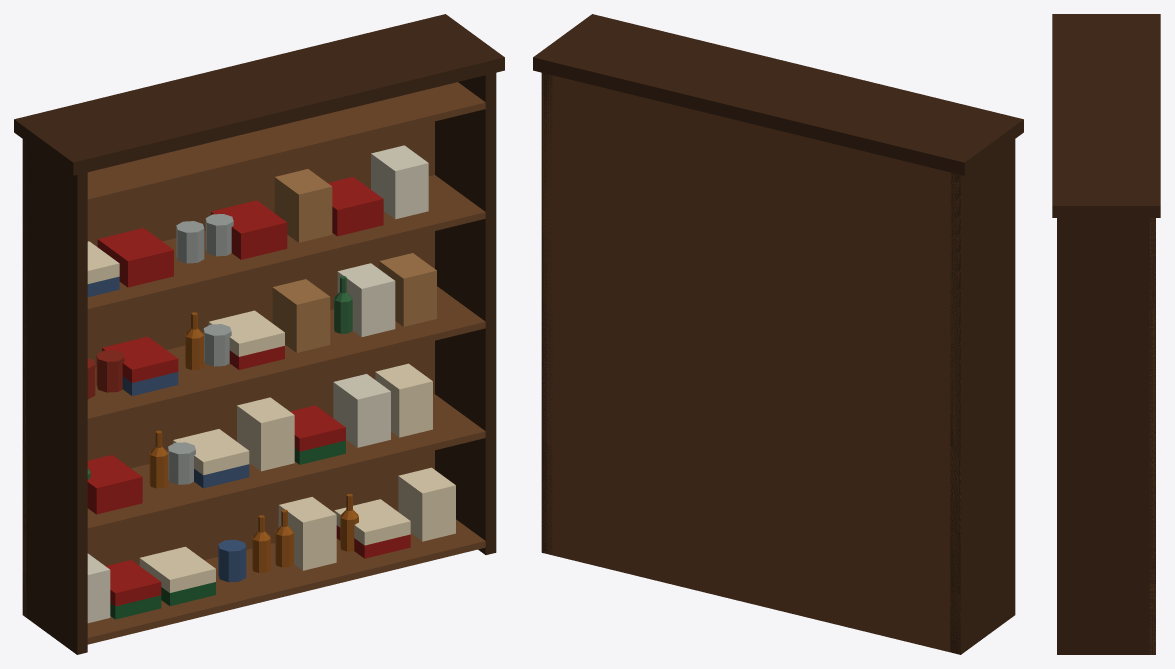
Rendered from SM_Store_Shelf.obj.
The picture shows the model from 3 angles, left to right: view 1: azimuth 30°, elevation 25°; view 2: azimuth 150°, elevation 25°; view 3: azimuth 270°, elevation 25°; orthographic projection. The views are drawn at different scales.
Parts seen in each view (by area): view 1: SM_Store_Shelf; view 2: SM_Store_Shelf; view 3: SM_Store_Shelf.
Part boxes in pixels (x1=…): SM_Store_Shelf: x1=14, y1=14, x2=504, y2=654; SM_Store_Shelf: x1=533, y1=14, x2=1023, y2=654; SM_Store_Shelf: x1=1052, y1=14, x2=1160, y2=654.
Bounding box in the file's own units: 2.06 × 2.26 × 0.49.
